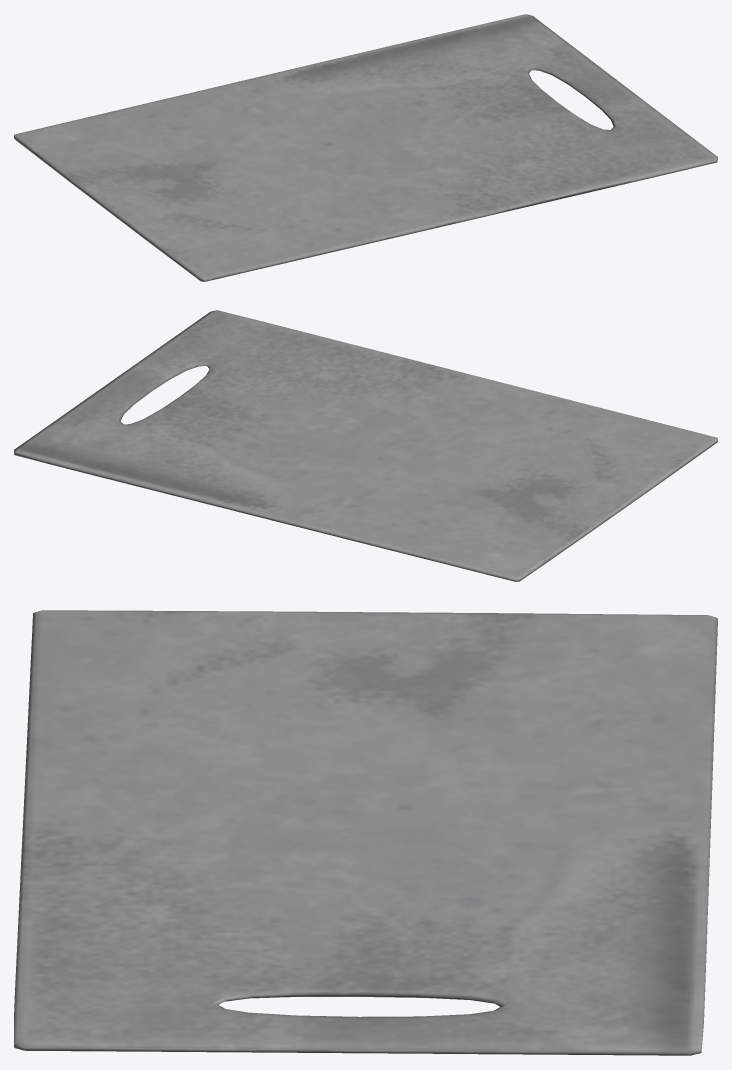
Rendered from Prop_Kitchen_Plastic.fbx.
3 renders of one model, top to bottom at view 1: azimuth 30°, elevation 25°; view 2: azimuth 150°, elevation 25°; view 3: azimuth 270°, elevation 25°, orthographic. The views are drawn at different scales.
Parts seen in each view (by area): view 1: Prop_Kitchen_Plastic; view 2: Prop_Kitchen_Plastic; view 3: Prop_Kitchen_Plastic.
Part boxes in pixels (bbox=[...]): Prop_Kitchen_Plastic: bbox=[14, 14, 717, 281]; Prop_Kitchen_Plastic: bbox=[14, 310, 717, 581]; Prop_Kitchen_Plastic: bbox=[14, 610, 717, 1055].
Size of the model in its own units: 22.03 by 0.1764 by 14.86.
